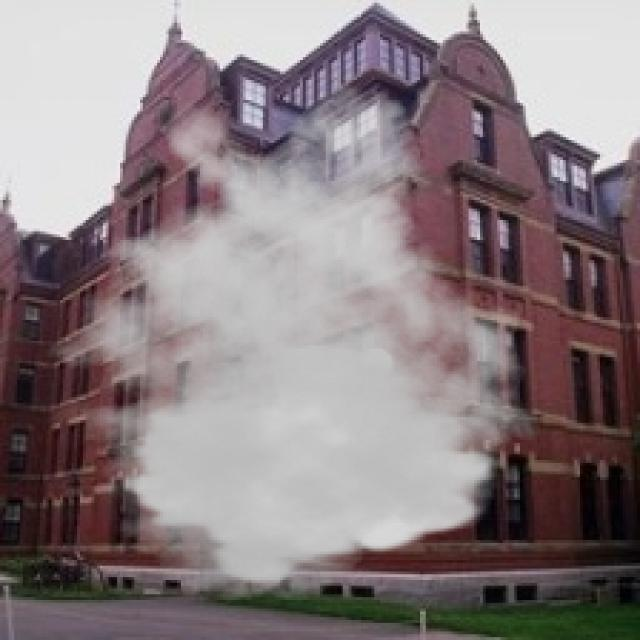Smoke: (22, 83, 548, 603)
